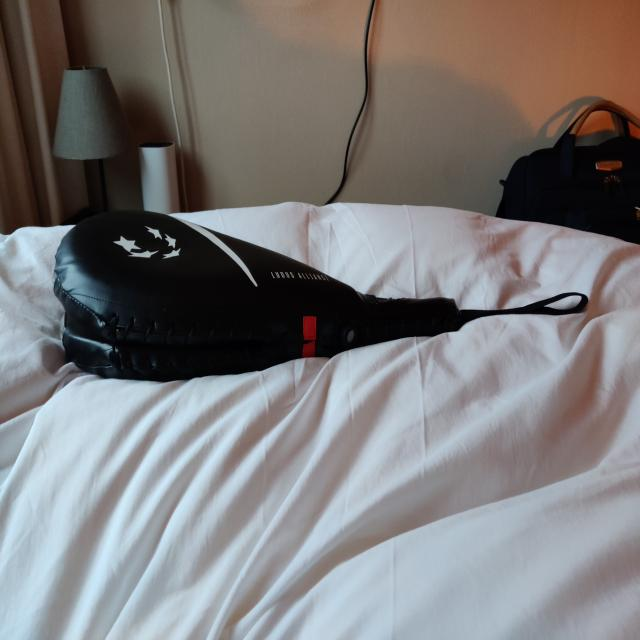paddle: (50, 206, 460, 385)
